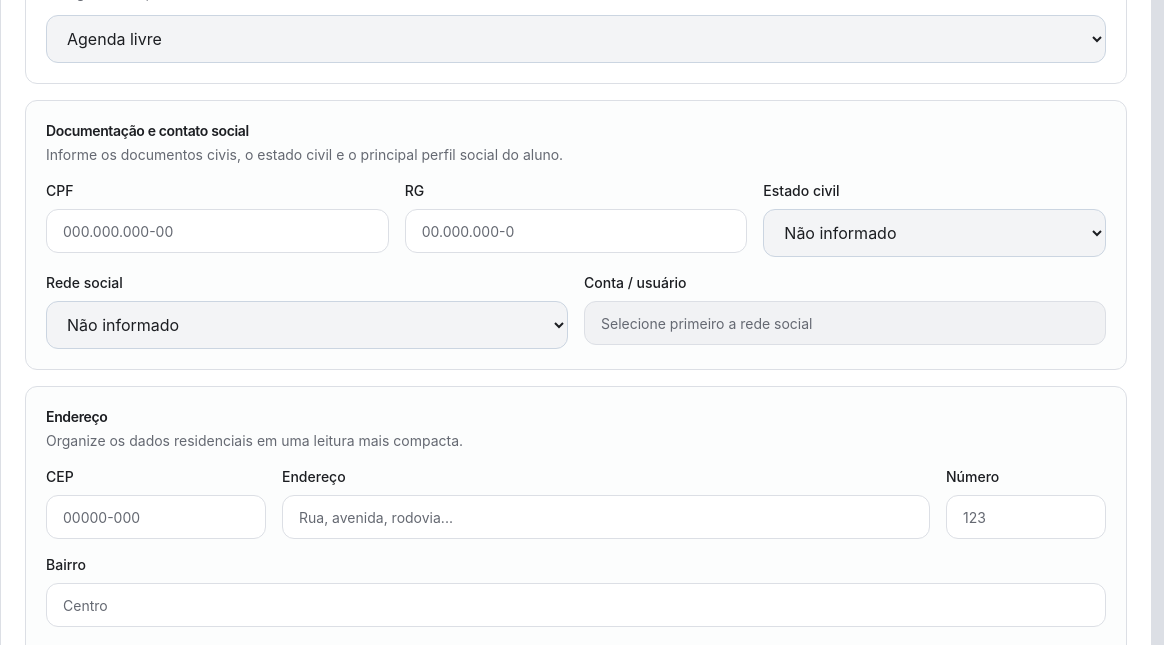
it: AlunoForm registration controls › renders controlled registration fields with the responsive layout and Outra interaction
(page scrolled)
Expected: the field named "intakeForm.personalInfo.instagram" is disabled, [584,301,1106,345]
Select "LinkedIn" in the dropdown named "intakeForm.personalInfo.socialNetwork" below "Rede social" at (307, 325), box [46,301,568,349]
(page scrolled)
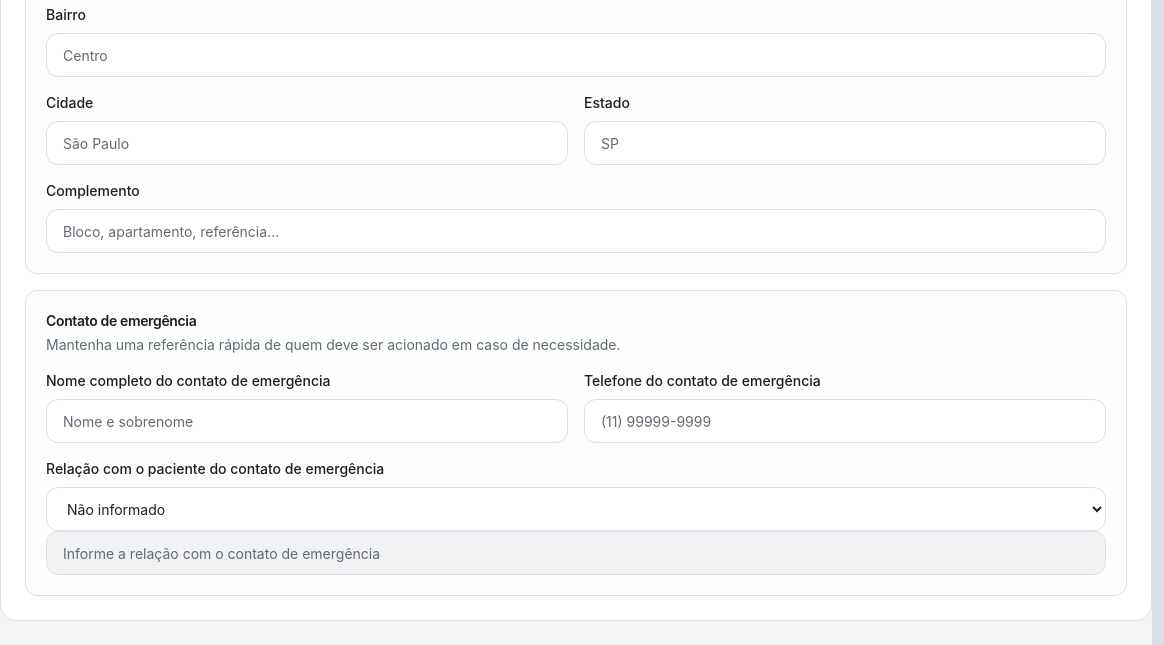
Select "Outra" in the dropdown named "Relação com o contato de emergência" at (576, 509), box [46,487,1106,531]
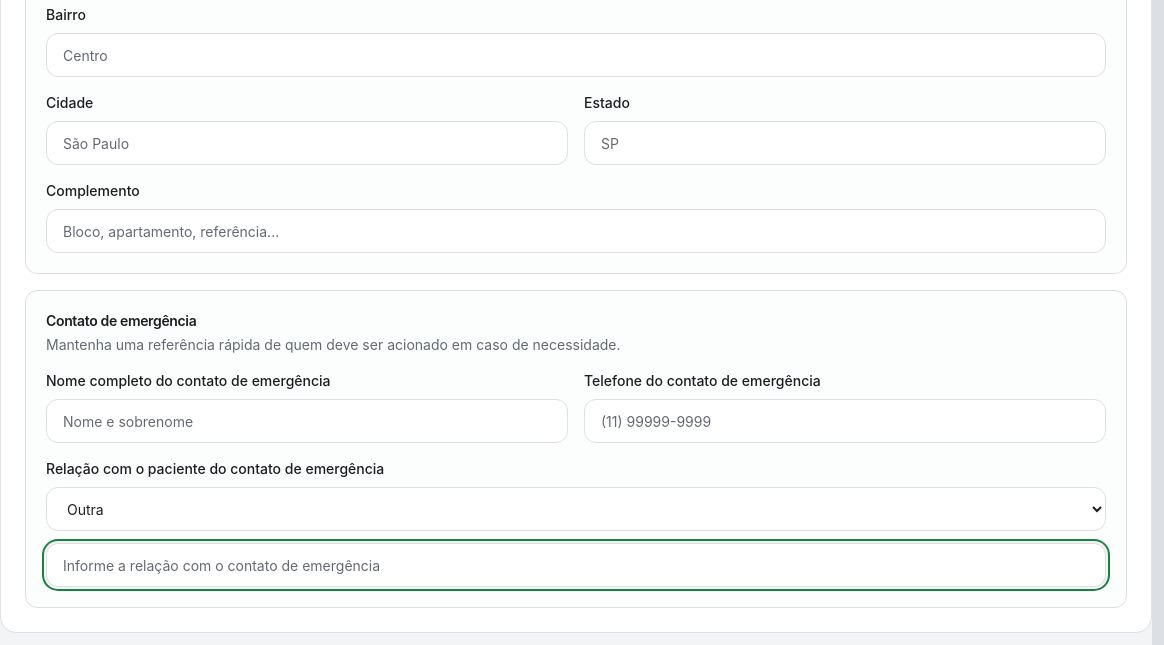
Result: the field named "Outra relação com o contato de emergência" is enabled at [46,543,1106,587]
